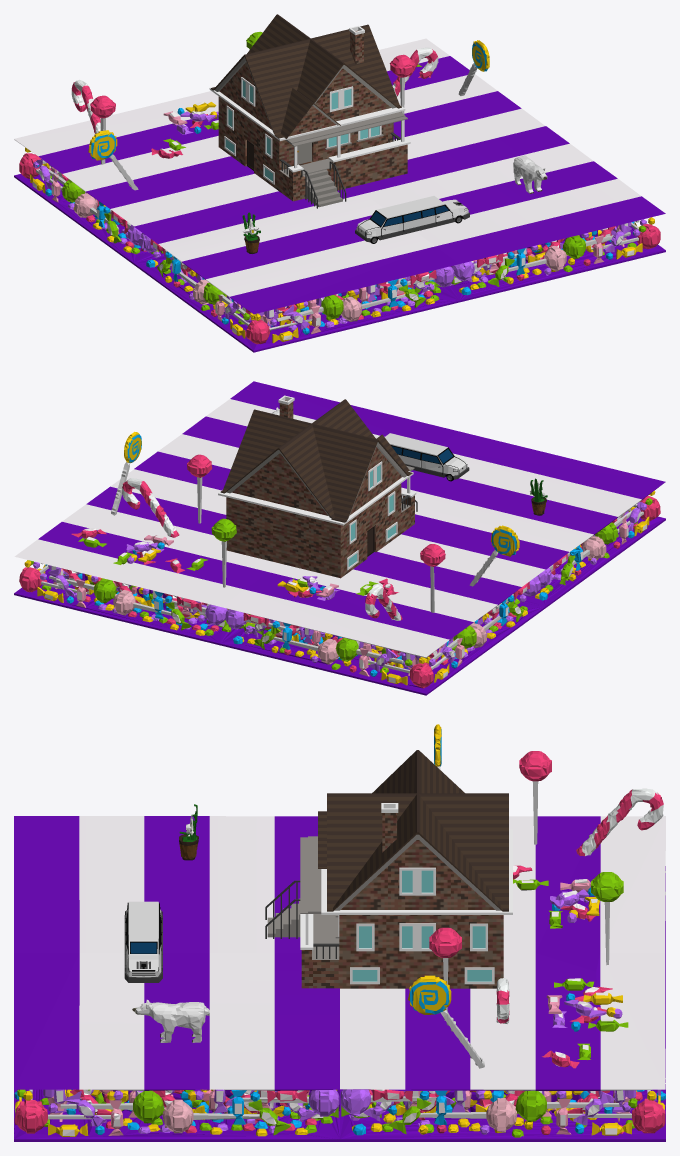
3 renders of one model, top to bottom at view 1: azimuth 30°, elevation 25°; view 2: azimuth 150°, elevation 25°; view 3: azimuth 270°, elevation 25°, orthographic. The views are drawn at different scales.
Visible parts, largest first — view 1: TERRAIN_CANDY, Cube.117, VEHICLES_LIMOUSINE, ANIMAL_OSO_POLAR, OBJRANDOM_MONJA BLANCA; view 2: TERRAIN_CANDY, Cube.117, VEHICLES_LIMOUSINE; view 3: TERRAIN_CANDY, Cube.117, VEHICLES_LIMOUSINE, ANIMAL_OSO_POLAR, OBJRANDOM_MONJA BLANCA.
Part boxes in pixels (x1,y1,x2,y2): TERRAIN_CANDY: (14,31,665,352); Cube.117: (209,14,410,208); VEHICLES_LIMOUSINE: (355,196,469,243); ANIMAL_OSO_POLAR: (513,155,547,193); OBJRANDOM_MONJA BLANCA: (242,212,260,253); TERRAIN_CANDY: (14,381,665,695); Cube.117: (218,395,417,578); VEHICLES_LIMOUSINE: (375,433,469,481); TERRAIN_CANDY: (14,724,665,1141); Cube.117: (265,750,512,988); VEHICLES_LIMOUSINE: (124,901,162,982); ANIMAL_OSO_POLAR: (132,999,209,1042); OBJRANDOM_MONJA BLANCA: (179,804,198,860).
Size of the model in its own units: 4059 by 1607 by 4000.
Materials: 30 (4 with a texture image).
